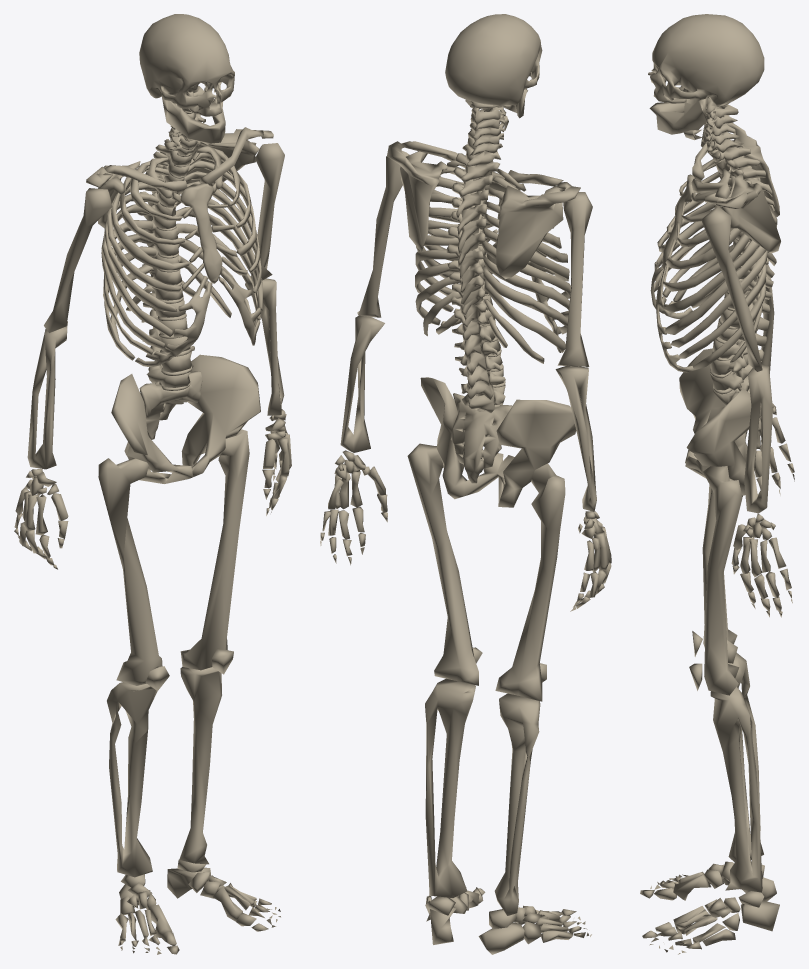
The model's file is icrp_adult_male.skeletal.LOD3.glb.
The picture shows the model from 3 angles, left to right: view 1: azimuth 30°, elevation 25°; view 2: azimuth 150°, elevation 25°; view 3: azimuth 270°, elevation 25°; orthographic projection.
Visible parts, largest first — view 1: ICRP.ADULT.MALE.SKELETAL.RIBS_CORTICAL, ICRP.ADULT.MALE.SKELETAL.FEMORA_CORTICAL, ICRP.ADULT.MALE.SKELETAL.TIBIAE_FIBULAE_AND_PATELLAE_CORTICA, ICRP.ADULT.MALE.SKELETAL.PELVIS_CORTICAL, ICRP.ADULT.MALE.SKELETAL.CRANIUM_CORTICAL, ICRP.ADULT.MALE.SKELETAL.ANKLES_AND_FOOT_CORTICAL, ICRP.ADULT.MALE.SKELETAL.WRISTS_AND_HAND_BONES_CORTICAL, ICRP.ADULT.MALE.SKELETAL.HUMERI_CORTICAL, ICRP.ADULT.MALE.SKELETAL.ULNAE_AND_RADII_CORTICAL, ICRP.ADULT.MALE.SKELETAL.CARTILAGE_COSTAL, ICRP.ADULT.MALE.SKELETAL.THORACIC_SPINE_CORTICAL, ICRP.ADULT.MALE.SKELETAL.LUMBAR_SPINE_CORTICAL (+7 smaller); view 2: ICRP.ADULT.MALE.SKELETAL.FEMORA_CORTICAL, ICRP.ADULT.MALE.SKELETAL.TIBIAE_FIBULAE_AND_PATELLAE_CORTICA, ICRP.ADULT.MALE.SKELETAL.RIBS_CORTICAL, ICRP.ADULT.MALE.SKELETAL.PELVIS_CORTICAL, ICRP.ADULT.MALE.SKELETAL.SCAPULAE_CORTICAL, ICRP.ADULT.MALE.SKELETAL.CRANIUM_CORTICAL, ICRP.ADULT.MALE.SKELETAL.THORACIC_SPINE_CORTICAL, ICRP.ADULT.MALE.SKELETAL.HUMERI_CORTICAL, ICRP.ADULT.MALE.SKELETAL.WRISTS_AND_HAND_BONES_CORTICAL, ICRP.ADULT.MALE.SKELETAL.ULNAE_AND_RADII_CORTICAL, ICRP.ADULT.MALE.SKELETAL.ANKLES_AND_FOOT_CORTICAL, ICRP.ADULT.MALE.SKELETAL.LUMBAR_SPINE_CORTICAL (+4 smaller); view 3: ICRP.ADULT.MALE.SKELETAL.RIBS_CORTICAL, ICRP.ADULT.MALE.SKELETAL.CRANIUM_CORTICAL, ICRP.ADULT.MALE.SKELETAL.TIBIAE_FIBULAE_AND_PATELLAE_CORTICA, ICRP.ADULT.MALE.SKELETAL.FEMORA_CORTICAL, ICRP.ADULT.MALE.SKELETAL.PELVIS_CORTICAL, ICRP.ADULT.MALE.SKELETAL.ANKLES_AND_FOOT_CORTICAL, ICRP.ADULT.MALE.SKELETAL.WRISTS_AND_HAND_BONES_CORTICAL, ICRP.ADULT.MALE.SKELETAL.SCAPULAE_CORTICAL, ICRP.ADULT.MALE.SKELETAL.ULNAE_AND_RADII_CORTICAL, ICRP.ADULT.MALE.SKELETAL.HUMERI_CORTICAL, ICRP.ADULT.MALE.SKELETAL.LUMBAR_SPINE_CORTICAL, ICRP.ADULT.MALE.SKELETAL.CERVICAL_SPINE_CORTICAL (+6 smaller).
Boxes of the visible parts, x1=… form: ICRP.ADULT.MALE.SKELETAL.RIBS_CORTICAL: x1=101, y1=145, x2=262, y2=360; ICRP.ADULT.MALE.SKELETAL.FEMORA_CORTICAL: x1=98, y1=429, x2=249, y2=685; ICRP.ADULT.MALE.SKELETAL.TIBIAE_FIBULAE_AND_PATELLAE_CORTICA: x1=107, y1=648, x2=233, y2=877; ICRP.ADULT.MALE.SKELETAL.PELVIS_CORTICAL: x1=111, y1=354, x2=260, y2=483; ICRP.ADULT.MALE.SKELETAL.CRANIUM_CORTICAL: x1=139, y1=14, x2=234, y2=116; ICRP.ADULT.MALE.SKELETAL.ANKLES_AND_FOOT_CORTICAL: x1=115, y1=859, x2=280, y2=954; ICRP.ADULT.MALE.SKELETAL.WRISTS_AND_HAND_BONES_CORTICAL: x1=14, y1=409, x2=291, y2=569; ICRP.ADULT.MALE.SKELETAL.HUMERI_CORTICAL: x1=44, y1=143, x2=284, y2=332; ICRP.ADULT.MALE.SKELETAL.ULNAE_AND_RADII_CORTICAL: x1=27, y1=278, x2=284, y2=469; ICRP.ADULT.MALE.SKELETAL.CARTILAGE_COSTAL: x1=135, y1=183, x2=260, y2=366; ICRP.ADULT.MALE.SKELETAL.THORACIC_SPINE_CORTICAL: x1=137, y1=139, x2=192, y2=300; ICRP.ADULT.MALE.SKELETAL.LUMBAR_SPINE_CORTICAL: x1=141, y1=293, x2=194, y2=387; ICRP.ADULT.MALE.SKELETAL.FEMORA_CORTICAL: x1=407, y1=443, x2=565, y2=701; ICRP.ADULT.MALE.SKELETAL.TIBIAE_FIBULAE_AND_PATELLAE_CORTICA: x1=425, y1=647, x2=546, y2=915; ICRP.ADULT.MALE.SKELETAL.RIBS_CORTICAL: x1=415, y1=160, x2=570, y2=363; ICRP.ADULT.MALE.SKELETAL.PELVIS_CORTICAL: x1=420, y1=377, x2=576, y2=507; ICRP.ADULT.MALE.SKELETAL.SCAPULAE_CORTICAL: x1=387, y1=141, x2=580, y2=279; ICRP.ADULT.MALE.SKELETAL.CRANIUM_CORTICAL: x1=445, y1=14, x2=542, y2=106; ICRP.ADULT.MALE.SKELETAL.THORACIC_SPINE_CORTICAL: x1=446, y1=153, x2=499, y2=340; ICRP.ADULT.MALE.SKELETAL.HUMERI_CORTICAL: x1=357, y1=151, x2=592, y2=366; ICRP.ADULT.MALE.SKELETAL.WRISTS_AND_HAND_BONES_CORTICAL: x1=320, y1=450, x2=611, y2=611; ICRP.ADULT.MALE.SKELETAL.ULNAE_AND_RADII_CORTICAL: x1=340, y1=315, x2=596, y2=511; ICRP.ADULT.MALE.SKELETAL.ANKLES_AND_FOOT_CORTICAL: x1=425, y1=887, x2=591, y2=954; ICRP.ADULT.MALE.SKELETAL.LUMBAR_SPINE_CORTICAL: x1=452, y1=323, x2=505, y2=412; ICRP.ADULT.MALE.SKELETAL.RIBS_CORTICAL: x1=655, y1=159, x2=767, y2=370; ICRP.ADULT.MALE.SKELETAL.CRANIUM_CORTICAL: x1=648, y1=14, x2=764, y2=106; ICRP.ADULT.MALE.SKELETAL.TIBIAE_FIBULAE_AND_PATELLAE_CORTICA: x1=689, y1=631, x2=763, y2=892; ICRP.ADULT.MALE.SKELETAL.FEMORA_CORTICAL: x1=702, y1=466, x2=742, y2=695; ICRP.ADULT.MALE.SKELETAL.PELVIS_CORTICAL: x1=679, y1=348, x2=761, y2=495; ICRP.ADULT.MALE.SKELETAL.ANKLES_AND_FOOT_CORTICAL: x1=640, y1=861, x2=779, y2=954; ICRP.ADULT.MALE.SKELETAL.WRISTS_AND_HAND_BONES_CORTICAL: x1=731, y1=403, x2=794, y2=617; ICRP.ADULT.MALE.SKELETAL.SCAPULAE_CORTICAL: x1=702, y1=122, x2=780, y2=253; ICRP.ADULT.MALE.SKELETAL.ULNAE_AND_RADII_CORTICAL: x1=744, y1=274, x2=774, y2=513; ICRP.ADULT.MALE.SKELETAL.HUMERI_CORTICAL: x1=701, y1=127, x2=762, y2=371; ICRP.ADULT.MALE.SKELETAL.LUMBAR_SPINE_CORTICAL: x1=710, y1=309, x2=769, y2=391; ICRP.ADULT.MALE.SKELETAL.CERVICAL_SPINE_CORTICAL: x1=704, y1=97, x2=750, y2=162.
Size of the model in its own units: 0.5408 by 1.74 by 0.2719.
